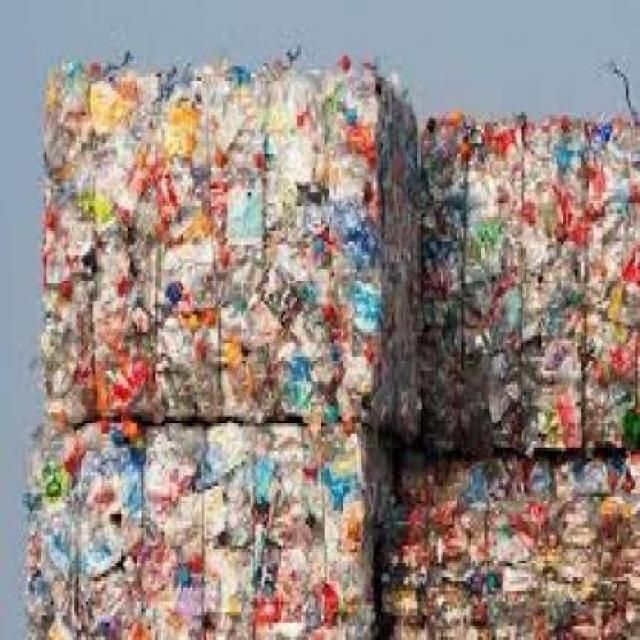garbage: (45, 56, 639, 637)
